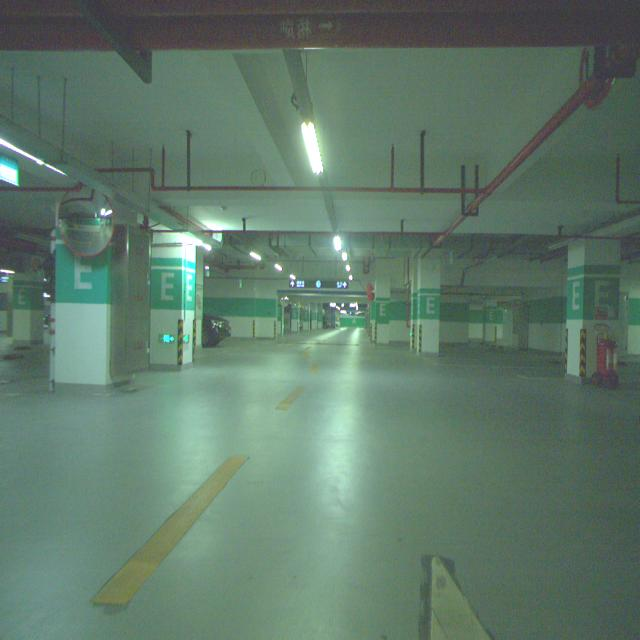pillar: (564, 238, 621, 380), (150, 234, 196, 369), (12, 278, 45, 347)
